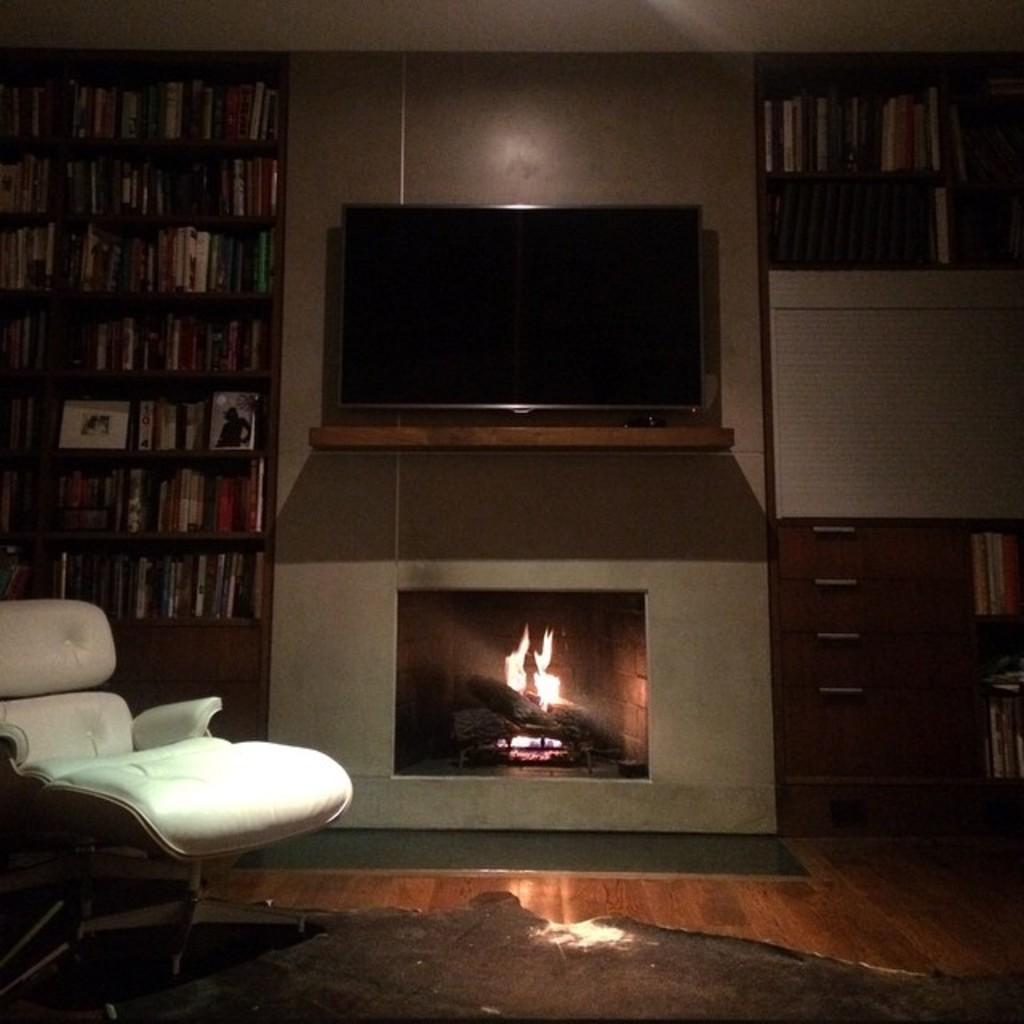Fire: (501, 614, 573, 764)
